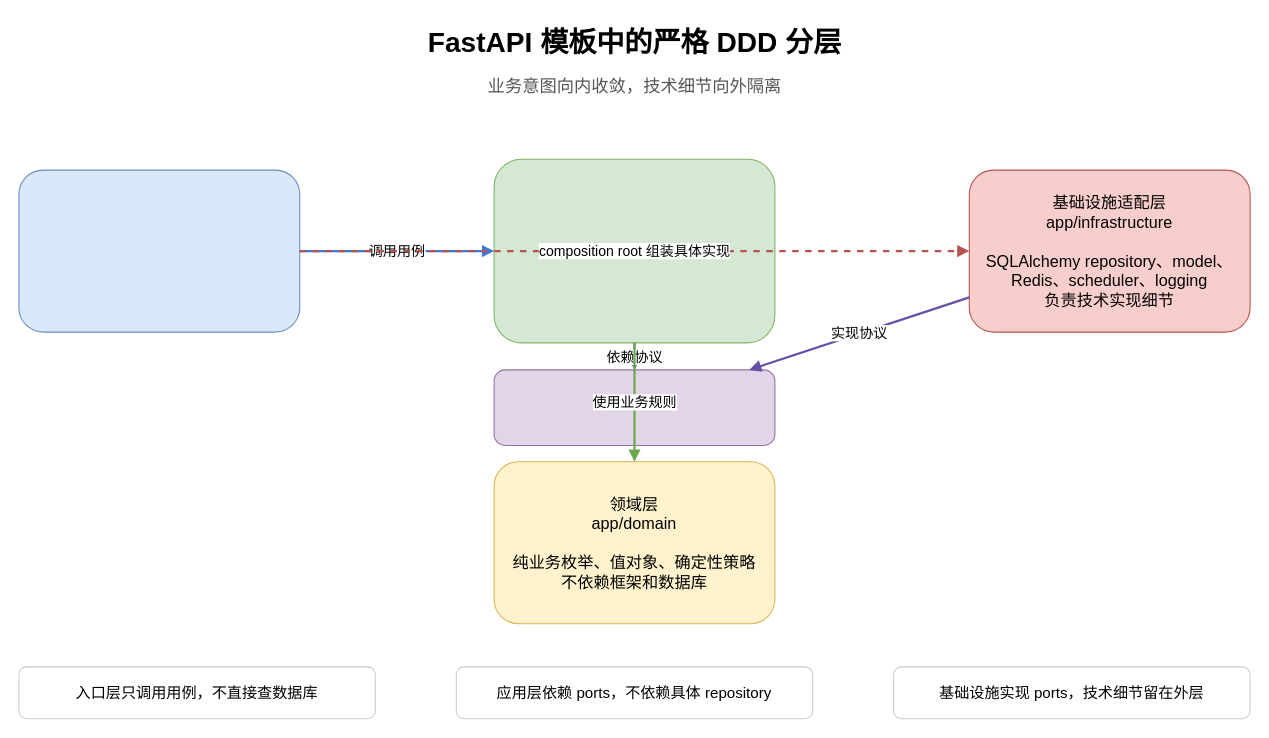
Some shapes in this 1269 by 738 pixel diagram are drawn without their labels. Each missing label, with the box of its shape:
Ports 协议 app/application/ports 由应用层定义需要什么能力: (493, 369, 775, 446)
入口适配层 app/interface HTTP endpoint、schema、job handler 负责协议适配和依赖组装: (18, 169, 300, 332)
应用层 app/application use case、DTO、ports、应用异常 负责一次业务动作的编排: (493, 158, 775, 343)
